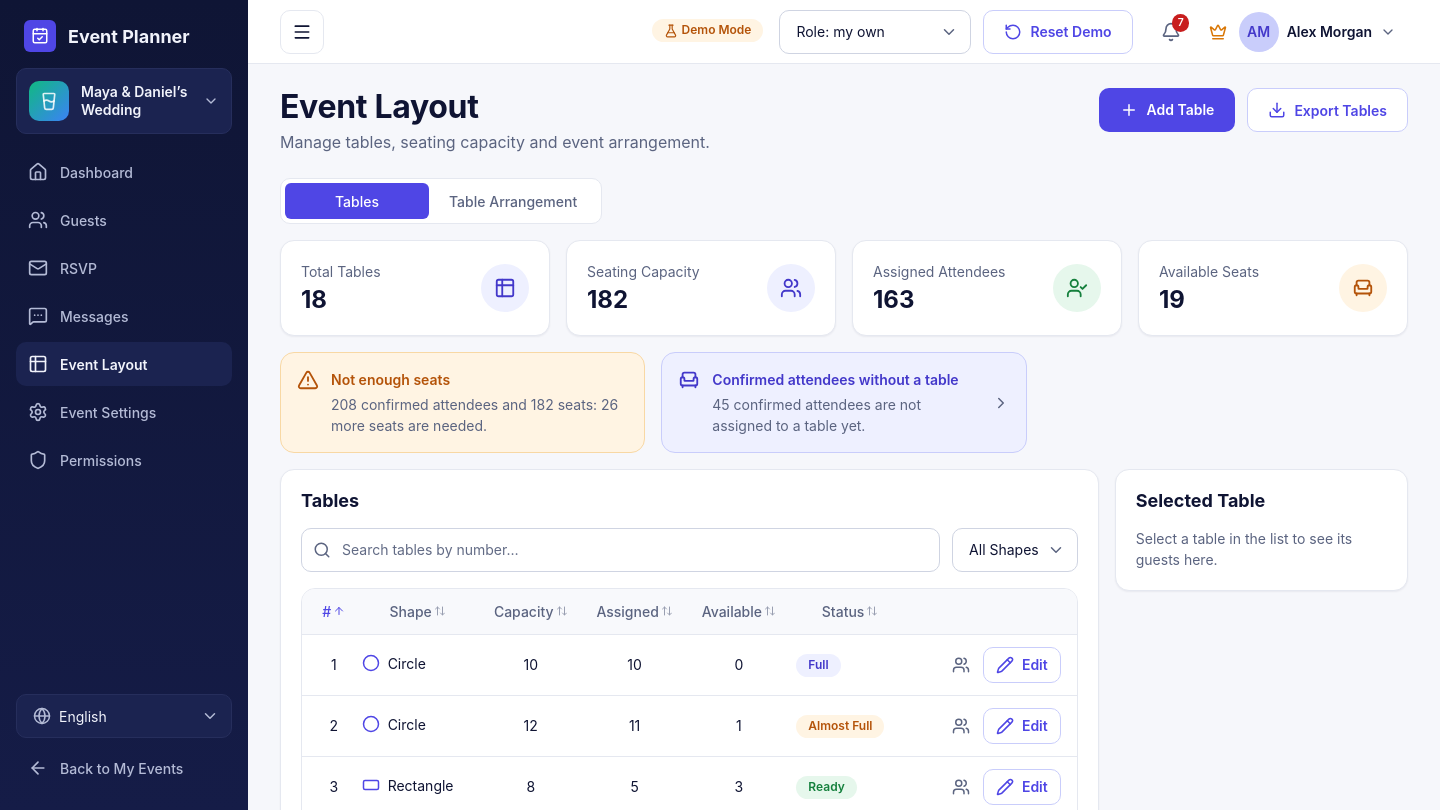
Test: Table Arrangement (D100) › is a tab of its own, kept in the address, with no Soon badge
The image size is (1440, 810).
Click the tab "Table Arrangement" at (513, 201), box [429,183,597,219]
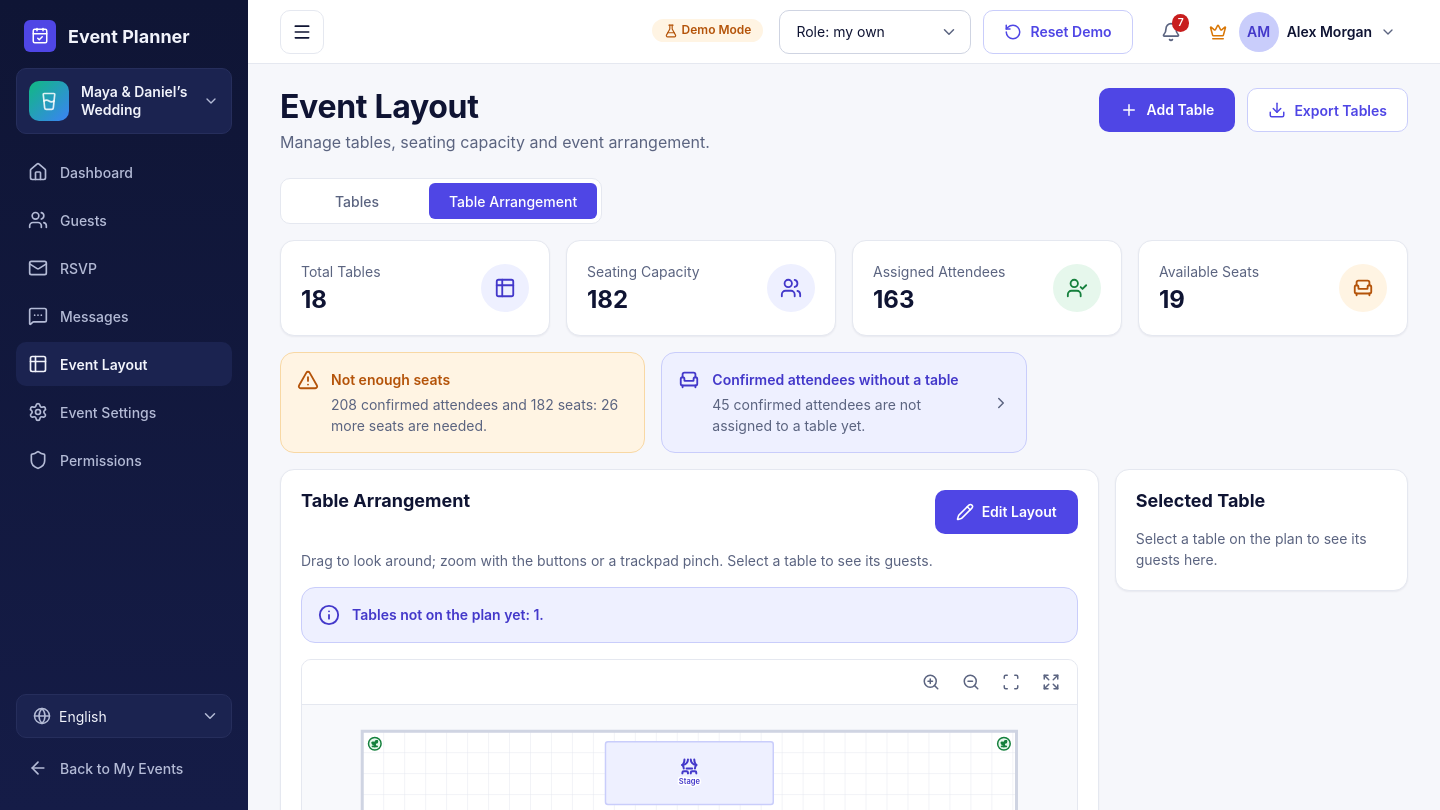
Click the tab "Tables" at (357, 201), box [285,183,429,219]
(page scrolled)
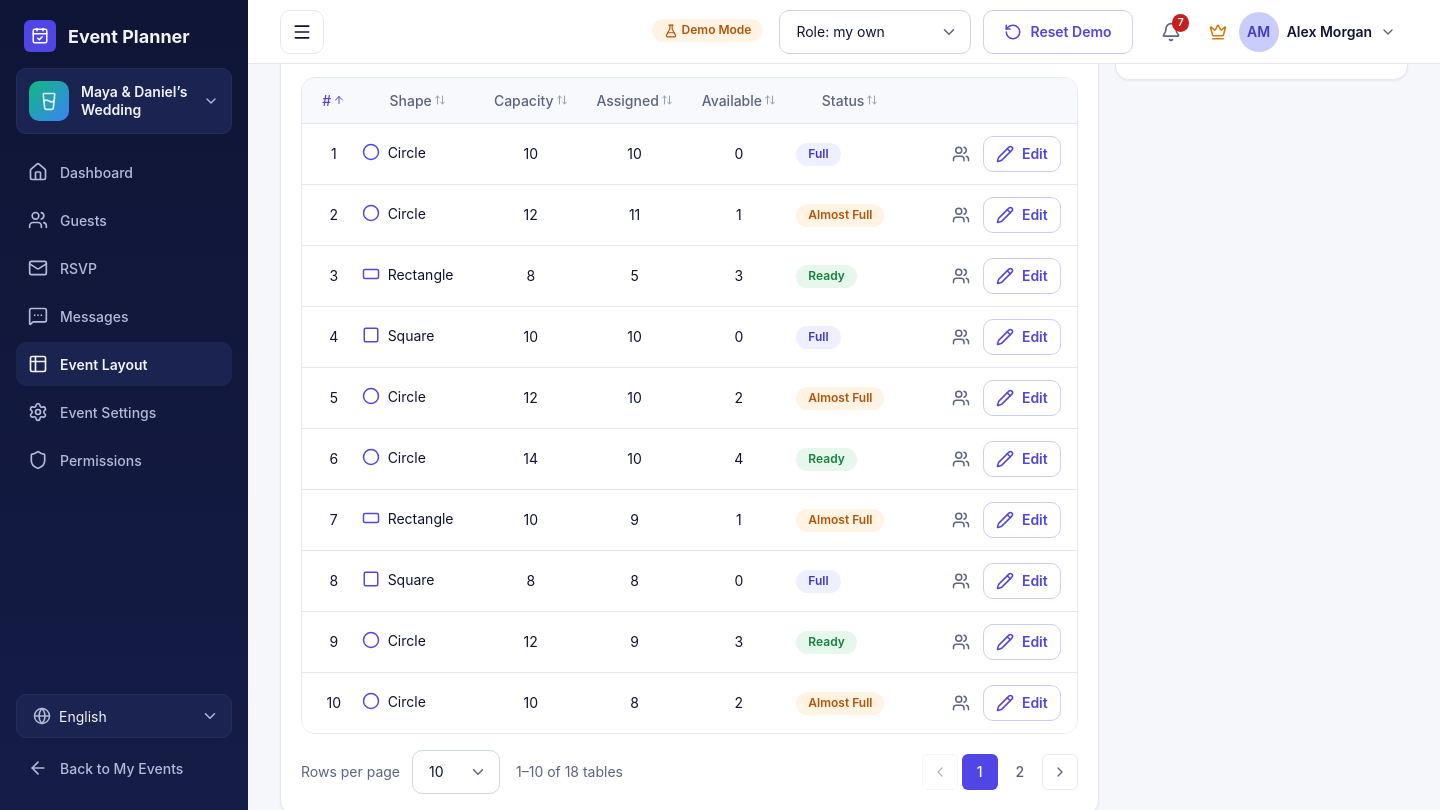
Expected: the table named "Tables" is shown, [302,78,1077,733]
